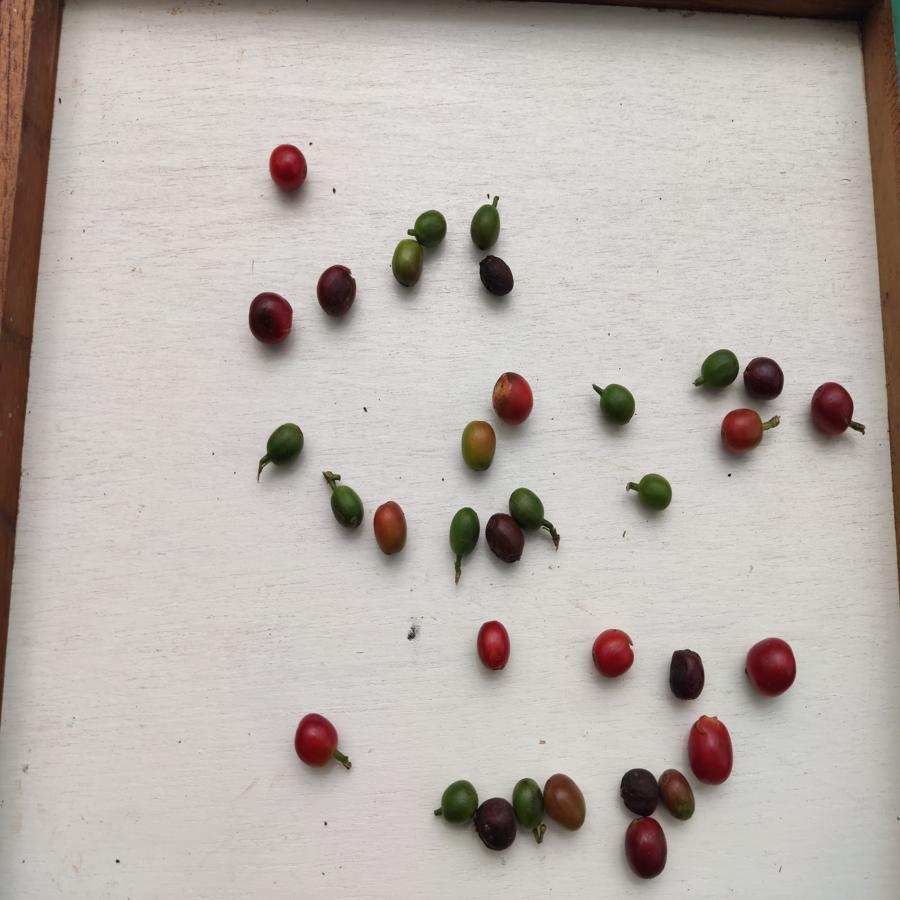Inmaduro: (590, 379, 639, 427), (327, 480, 366, 531), (262, 420, 303, 464), (468, 202, 504, 252), (445, 508, 481, 558), (510, 488, 552, 527), (633, 472, 671, 515), (441, 779, 477, 824), (700, 350, 740, 390), (511, 776, 539, 828), (408, 209, 448, 245)
Maduro: (740, 634, 798, 695), (688, 713, 732, 786), (289, 709, 338, 766), (590, 627, 637, 684), (487, 370, 536, 424), (720, 406, 765, 456), (476, 620, 515, 676), (267, 145, 311, 194)
Pinton: (541, 771, 586, 836), (462, 417, 502, 473), (373, 502, 410, 559), (388, 241, 426, 287), (659, 770, 695, 817)
Sobremaduro: (806, 383, 859, 440), (245, 291, 296, 347), (627, 817, 668, 877), (664, 648, 707, 702), (473, 797, 515, 852), (315, 263, 357, 316), (484, 513, 525, 566), (619, 768, 658, 819), (741, 358, 786, 401), (473, 252, 515, 297)
